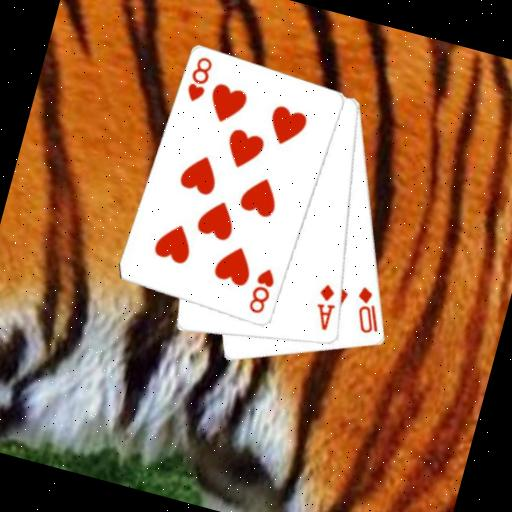10D: (346, 282, 390, 338)
8H: (244, 263, 279, 318), (181, 52, 216, 106)
AD: (308, 279, 342, 333)
